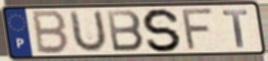B: (104, 9, 146, 54), (31, 9, 71, 56)
F: (181, 7, 217, 52)
S: (141, 7, 184, 53)
T: (221, 8, 250, 49)
U: (69, 9, 109, 55)
